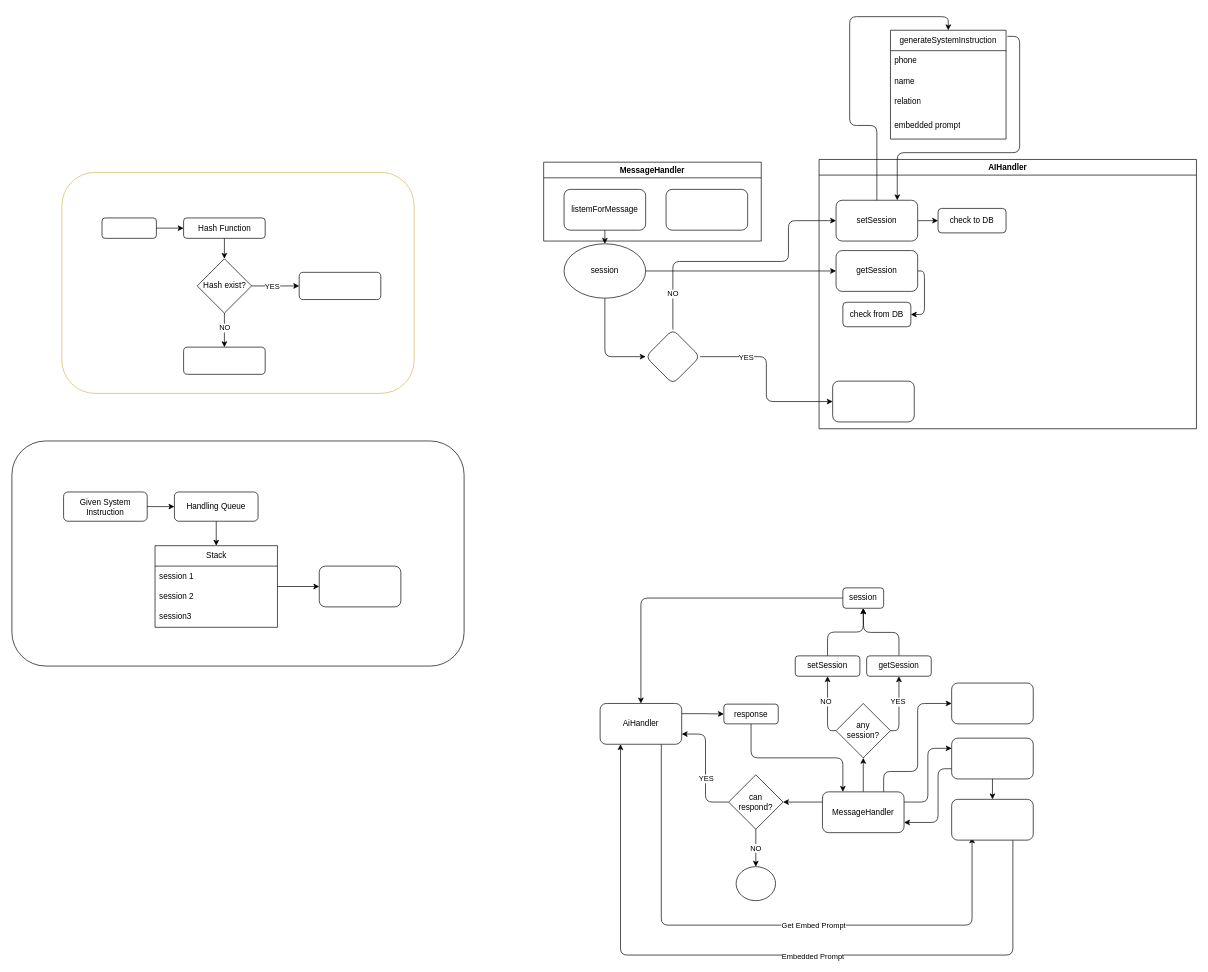
Image size: 1208x972. Some labels were removed from this diagram. Each missing label, with the centre of its shape:
"AdminHandler" goes at pixel 992 758.
"aiResponse" goes at pixel 873 401.
"EmbedPromptHandler" goes at pixel 992 819.
"exist?" goes at pixel 672 356.
"File Check" goes at pixel 128 227.
"handleMediaMessage" goes at pixel 706 209.
"Nothing" goes at pixel 755 883.
"result" goes at pixel 360 586.
"save the file" goes at pixel 224 360.
"Send to user" goes at pixel 992 703.
"use existing hash file" goes at pixel 340 286.
